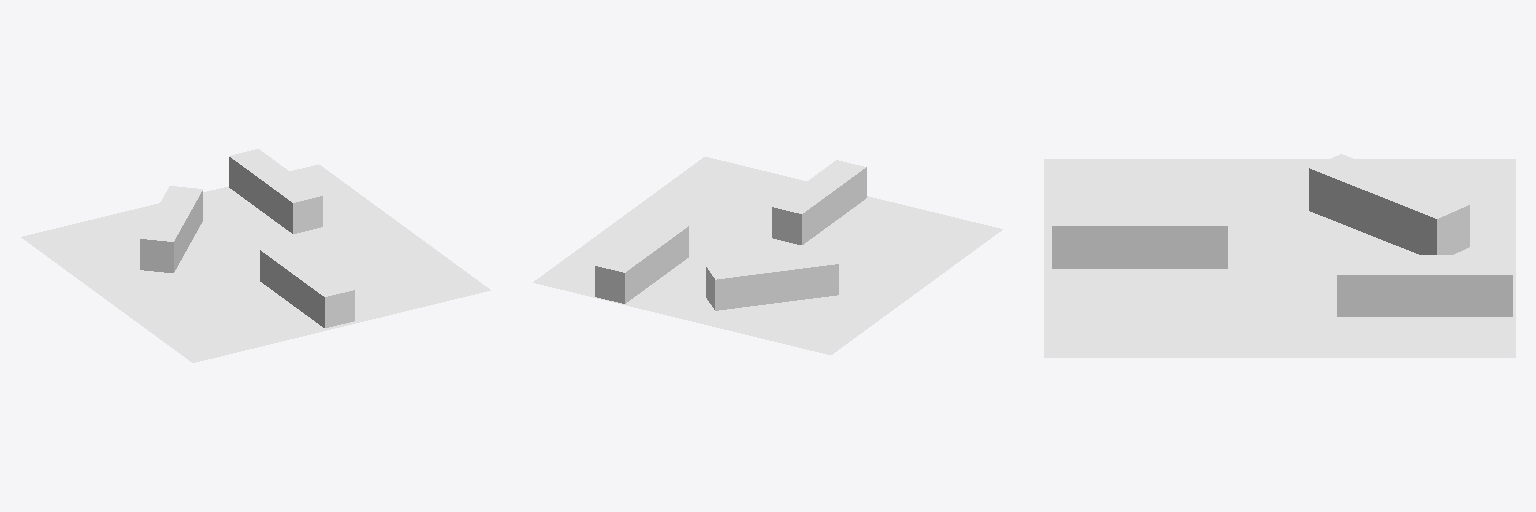
robot.urdf — scene:
<robot name="scene">
  <link name="base_link">
    <visual>
      <origin xyz="0 0 0" rpy="0 0 0" />
      <geometry>
        <mesh filename="package://tp-rrt/meshes/scene.stl"/>
      </geometry>
      <material name="white">
        <color rgba="1 1 1 1"/>
      </material>
    </visual>
    <collision>
      <origin xyz="0 0 0" rpy="0 0 0" />
      <geometry>
        <mesh filename="package://tp-rrt/meshes/scene.stl"/>
      </geometry>
    </collision>
  </link>
</robot>

--- Facts derived from the render (not from the file) ---
The picture shows the robot from 3 angles, left to right: view 1: azimuth 30°, elevation 25°; view 2: azimuth 150°, elevation 25°; view 3: azimuth 270°, elevation 25°; orthographic projection.
Robot: scene — 1 links, 0 joints (none); root link base_link; default pose: every joint at zero.
Visible links, largest first — view 1: base_link; view 2: base_link; view 3: base_link.
Link boxes in pixels (<box>): base_link: <box>21,149,490,362</box>; base_link: <box>533,157,1002,354</box>; base_link: <box>1044,154,1515,357</box>.
Size in the robot's own frame: 10 by 10 by 1 metres.
1 mesh visuals loaded from 1 distinct referenced files (1 binary STL).